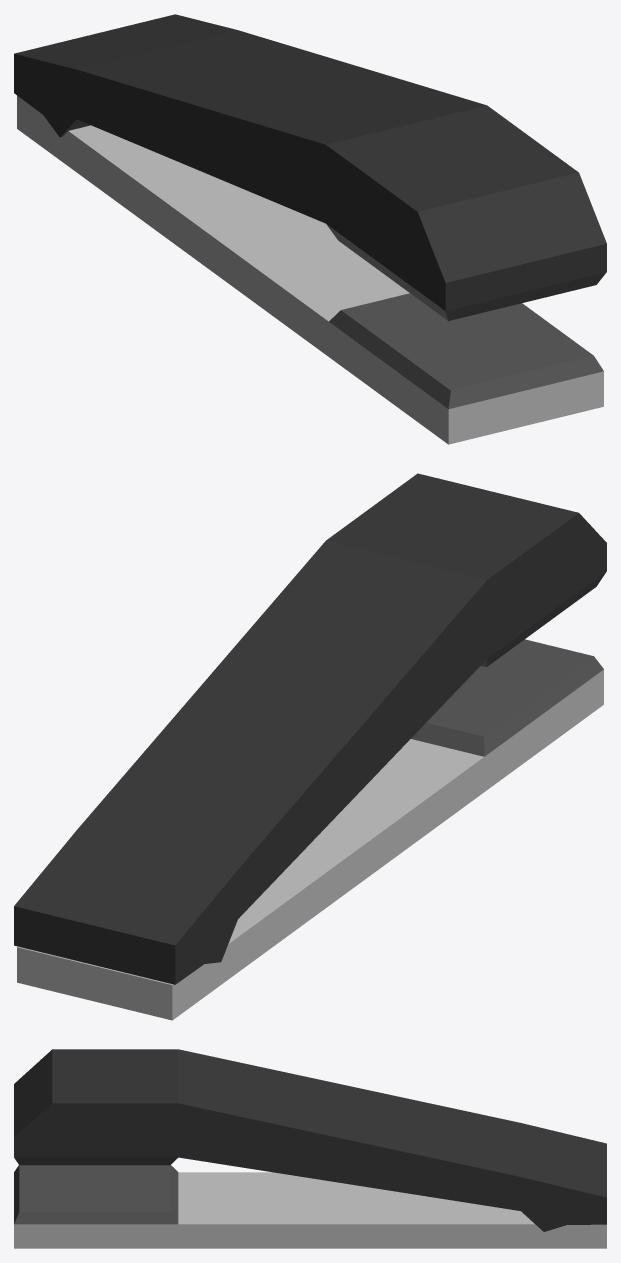
File: Klipser_Sort.fbx
3 renders of one model, top to bottom at view 1: azimuth 30°, elevation 25°; view 2: azimuth 150°, elevation 25°; view 3: azimuth 270°, elevation 25°, orthographic. The views are drawn at different scales.
Visible parts, largest first — view 1: Cube; view 2: Cube; view 3: Cube.
Boxes of the visible parts, x1,y1,x2,y2 form: Cube: [14, 14, 606, 444]; Cube: [14, 473, 606, 1020]; Cube: [14, 1049, 606, 1248].
Size of the model in its own units: 10.71 by 13.5 by 49.61.
